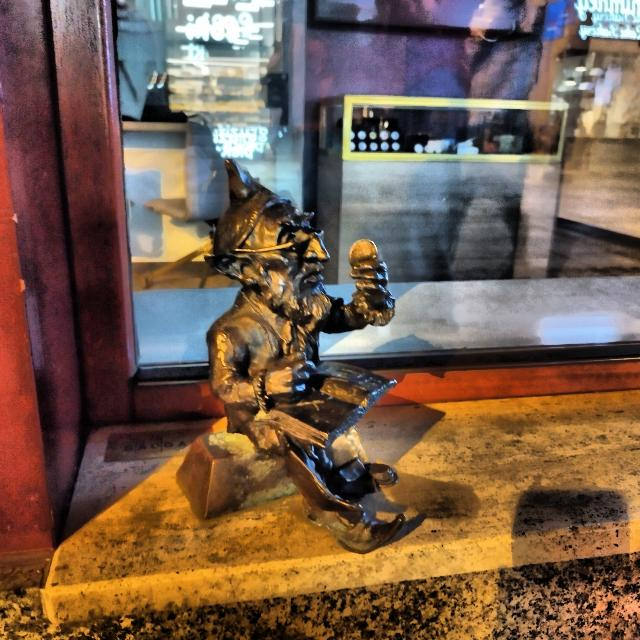Gaugan: (177, 159, 407, 556)
